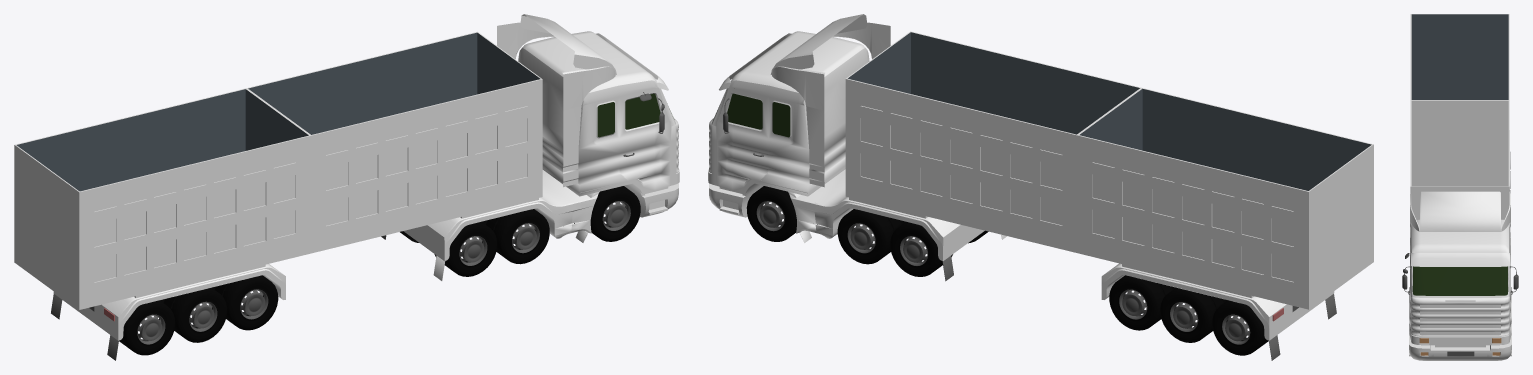
File: car170.glb
3 renders of one model, left to right at view 1: azimuth 30°, elevation 25°; view 2: azimuth 150°, elevation 25°; view 3: azimuth 270°, elevation 25°, orthographic. The views are drawn at different scales.
Visible parts, largest first — view 1: ~14___Default_materialGroup_15, obj25~14Trailer12_materialGroup_17, obj17~14Trailer11_materialGroup_14, obj15~14Trailer09_materialGroup_12, ~14Trailer11_materialGroup_16, obj16~14Trailer10_materialGroup_13, ~??_13_materialGroup_20, obj55~_____21_materialGroup_29, obj34~_____21_materialGroup_22, obj37~_____21_materialGroup_23, obj31~_____21_materialGroup_19, obj61~_____21_materialGroup_31 (+5 smaller); view 2: ~14Trailer11_materialGroup_16, ~14___Default_materialGroup_15, ~14Trailer12_materialGroup_18, obj15~14Trailer09_materialGroup_12, obj16~14Trailer10_materialGroup_13, ~??_13_materialGroup_20, obj58~_____21_materialGroup_30, obj43~_____21_materialGroup_25, obj46~_____21_materialGroup_26, obj4~Material__32_materialGroup_4, obj40~_____21_materialGroup_24, obj64~_____21_materialGroup_32 (+3 smaller); view 3: obj15~14Trailer09_materialGroup_12, ~14Trailer11_materialGroup_16, ~14___Default_materialGroup_15, obj4~Material__32_materialGroup_4, obj14~14Trailer08_materialGroup_11, obj16~14Trailer10_materialGroup_13, ~14Trailer06_materialGroup_6, ~14Trailer12_materialGroup_18, obj8~??_19_materialGroup_8, ~??_10_materialGroup_9, obj2~14Trailer03_materialGroup_2, obj25~14Trailer12_materialGroup_17 (+2 smaller).
Boxes of the visible parts, x1,y1,x2,y2 form: ~14___Default_materialGroup_15: (16,32,540,191); obj25~14Trailer12_materialGroup_17: (311,79,542,253); obj17~14Trailer11_materialGroup_14: (79,135,310,309); obj15~14Trailer09_materialGroup_12: (497,14,679,196); ~14Trailer11_materialGroup_16: (14,88,310,309); obj16~14Trailer10_materialGroup_13: (53,170,678,340); ~??_13_materialGroup_20: (137,201,630,344); obj55~_____21_materialGroup_29: (493,209,549,264); obj34~_____21_materialGroup_22: (171,287,227,342); obj37~_____21_materialGroup_23: (223,275,278,330); obj31~_____21_materialGroup_19: (121,300,175,355); obj61~_____21_materialGroup_31: (590,186,640,241); ~14Trailer11_materialGroup_16: (1077,88,1373,309); ~14___Default_materialGroup_15: (848,32,1371,190); ~14Trailer12_materialGroup_18: (845,31,1141,252); obj15~14Trailer09_materialGroup_12: (708,14,890,196); obj16~14Trailer10_materialGroup_13: (709,169,1334,340); ~??_13_materialGroup_20: (756,201,1250,344); obj58~_____21_materialGroup_30: (837,209,893,264); obj43~_____21_materialGroup_25: (1160,287,1215,342); obj46~_____21_materialGroup_26: (1109,275,1164,330); obj4~Material__32_materialGroup_4: (713,93,790,137); obj40~_____21_materialGroup_24: (1212,300,1266,355); obj64~_____21_materialGroup_32: (746,186,796,241); obj15~14Trailer09_materialGroup_12: (1409,191,1511,345); ~14Trailer11_materialGroup_16: (1411,14,1509,186); ~14___Default_materialGroup_15: (1411,14,1508,99); obj4~Material__32_materialGroup_4: (1412,266,1508,295); obj14~14Trailer08_materialGroup_11: (1409,300,1511,356); obj16~14Trailer10_materialGroup_13: (1409,130,1511,360); ~14Trailer06_materialGroup_6: (1410,253,1510,266); ~14Trailer12_materialGroup_18: (1410,100,1509,237); obj8~??_19_materialGroup_8: (1411,266,1509,297); ~??_10_materialGroup_9: (1402,253,1518,294); obj2~14Trailer03_materialGroup_2: (1419,338,1501,355); obj25~14Trailer12_materialGroup_17: (1410,100,1411,186).
Bounding box in the file's own units: 13.13 × 4.04 × 2.86.
